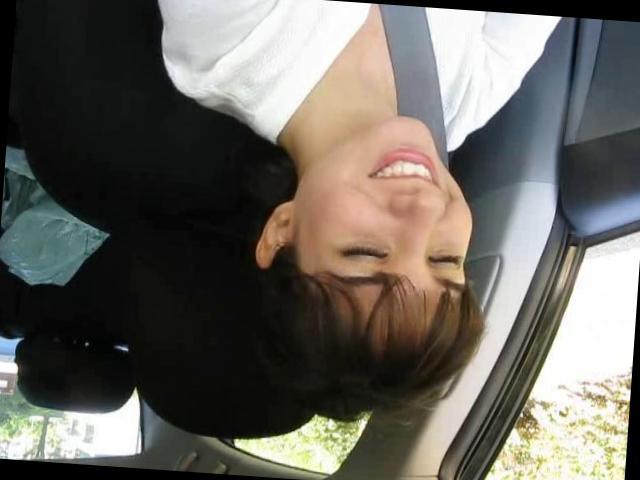eye_closed: (334, 236, 393, 270), (424, 243, 467, 275)
face: (309, 108, 482, 296)
